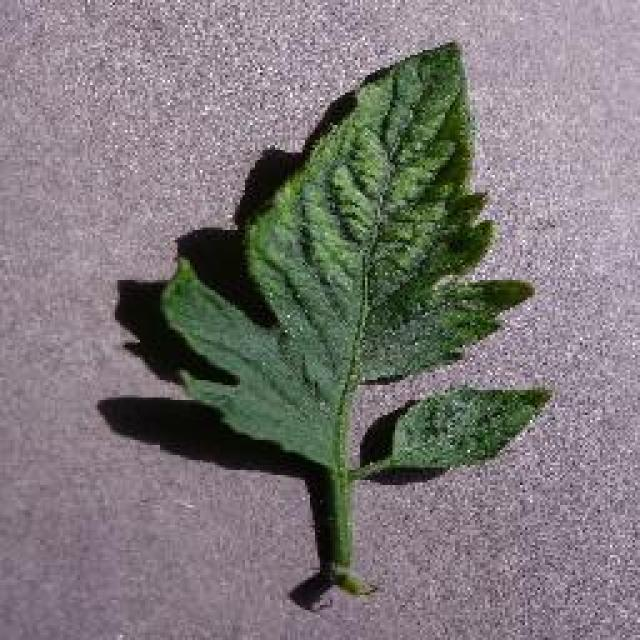Tom_mosaic_virus: (290, 108, 455, 358)
